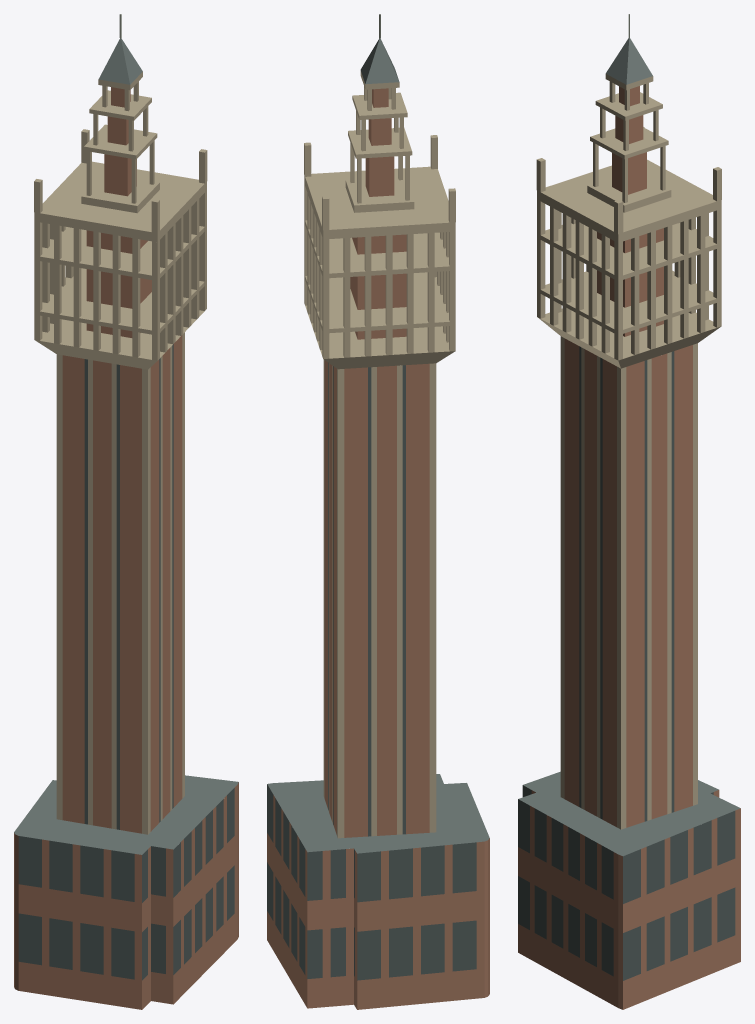
File: beffroi-hotel-de-ville-lille-far.glb
3 renders of one model, left to right at view 1: azimuth 30°, elevation 25°; view 2: azimuth 150°, elevation 25°; view 3: azimuth 270°, elevation 25°, orthographic.
Parts seen in each view (by area): view 1: beffroi-hotel-de-ville-lille-0-brick, beffroi-hotel-de-ville-lille-0-stone, beffroi-hotel-de-ville-lille-0-glass, beffroi-hotel-de-ville-lille-0-pier, beffroi-hotel-de-ville-lille-0-roof; view 2: beffroi-hotel-de-ville-lille-0-brick, beffroi-hotel-de-ville-lille-0-stone, beffroi-hotel-de-ville-lille-0-glass, beffroi-hotel-de-ville-lille-0-pier, beffroi-hotel-de-ville-lille-0-roof; view 3: beffroi-hotel-de-ville-lille-0-brick, beffroi-hotel-de-ville-lille-0-stone, beffroi-hotel-de-ville-lille-0-glass, beffroi-hotel-de-ville-lille-0-pier, beffroi-hotel-de-ville-lille-0-roof.
Boxes of the visible parts, x1=… form: beffroi-hotel-de-ville-lille-0-brick: x1=14, y1=87, x2=238, y2=1009; beffroi-hotel-de-ville-lille-0-stone: x1=34, y1=72, x2=207, y2=834; beffroi-hotel-de-ville-lille-0-glass: x1=18, y1=344, x2=234, y2=980; beffroi-hotel-de-ville-lille-0-pier: x1=34, y1=191, x2=206, y2=360; beffroi-hotel-de-ville-lille-0-roof: x1=14, y1=38, x2=238, y2=854; beffroi-hotel-de-ville-lille-0-brick: x1=267, y1=88, x2=489, y2=1009; beffroi-hotel-de-ville-lille-0-stone: x1=304, y1=71, x2=455, y2=838; beffroi-hotel-de-ville-lille-0-glass: x1=267, y1=362, x2=476, y2=980; beffroi-hotel-de-ville-lille-0-pier: x1=304, y1=184, x2=455, y2=358; beffroi-hotel-de-ville-lille-0-roof: x1=267, y1=38, x2=489, y2=853; beffroi-hotel-de-ville-lille-0-brick: x1=518, y1=86, x2=740, y2=1009; beffroi-hotel-de-ville-lille-0-stone: x1=536, y1=74, x2=721, y2=829; beffroi-hotel-de-ville-lille-0-glass: x1=518, y1=346, x2=735, y2=980; beffroi-hotel-de-ville-lille-0-pier: x1=537, y1=199, x2=721, y2=360; beffroi-hotel-de-ville-lille-0-roof: x1=518, y1=38, x2=740, y2=856.
Size of the model in its own units: 25.42 by 104 by 22.34.
